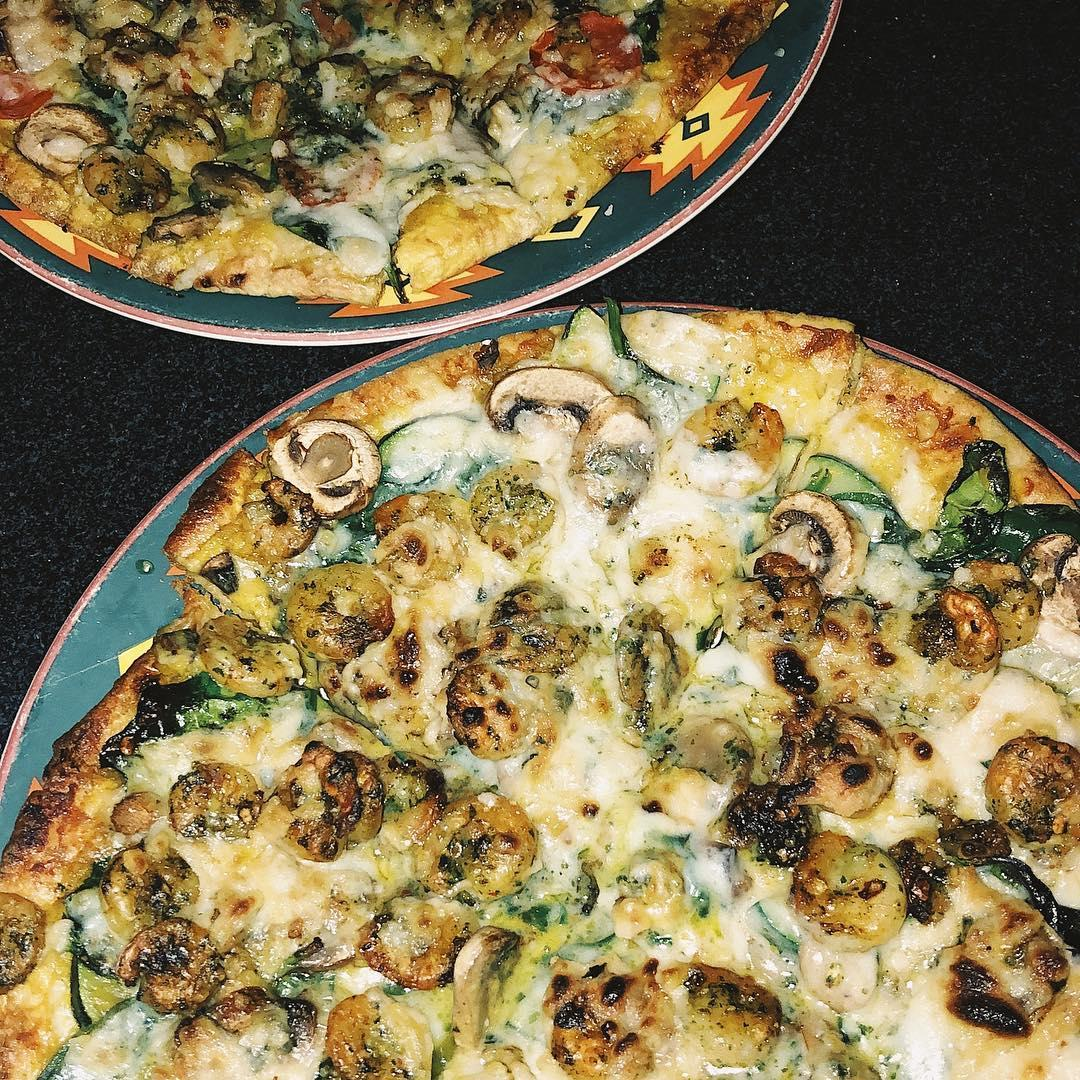Mushroom: (276, 421, 381, 505), (775, 488, 856, 584), (492, 364, 609, 426), (456, 923, 516, 1041), (21, 109, 102, 173), (1019, 531, 1073, 591)
Pizza: (0, 307, 1080, 1080), (0, 0, 775, 288)
